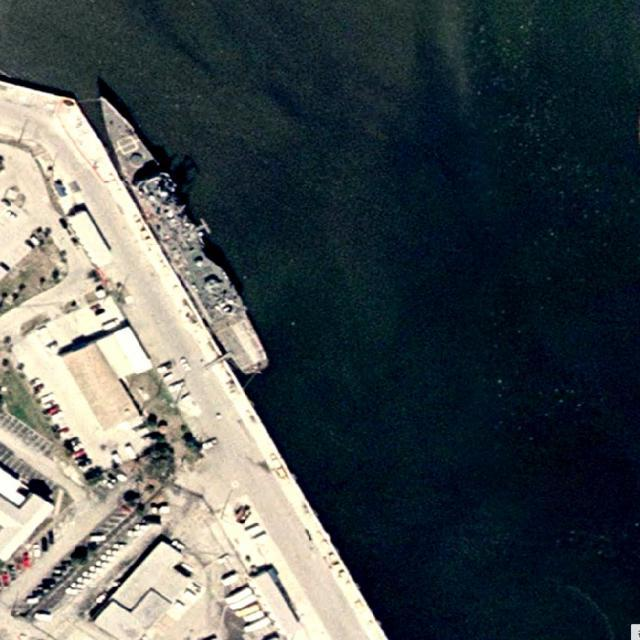Frigate: (84, 85, 274, 380)
